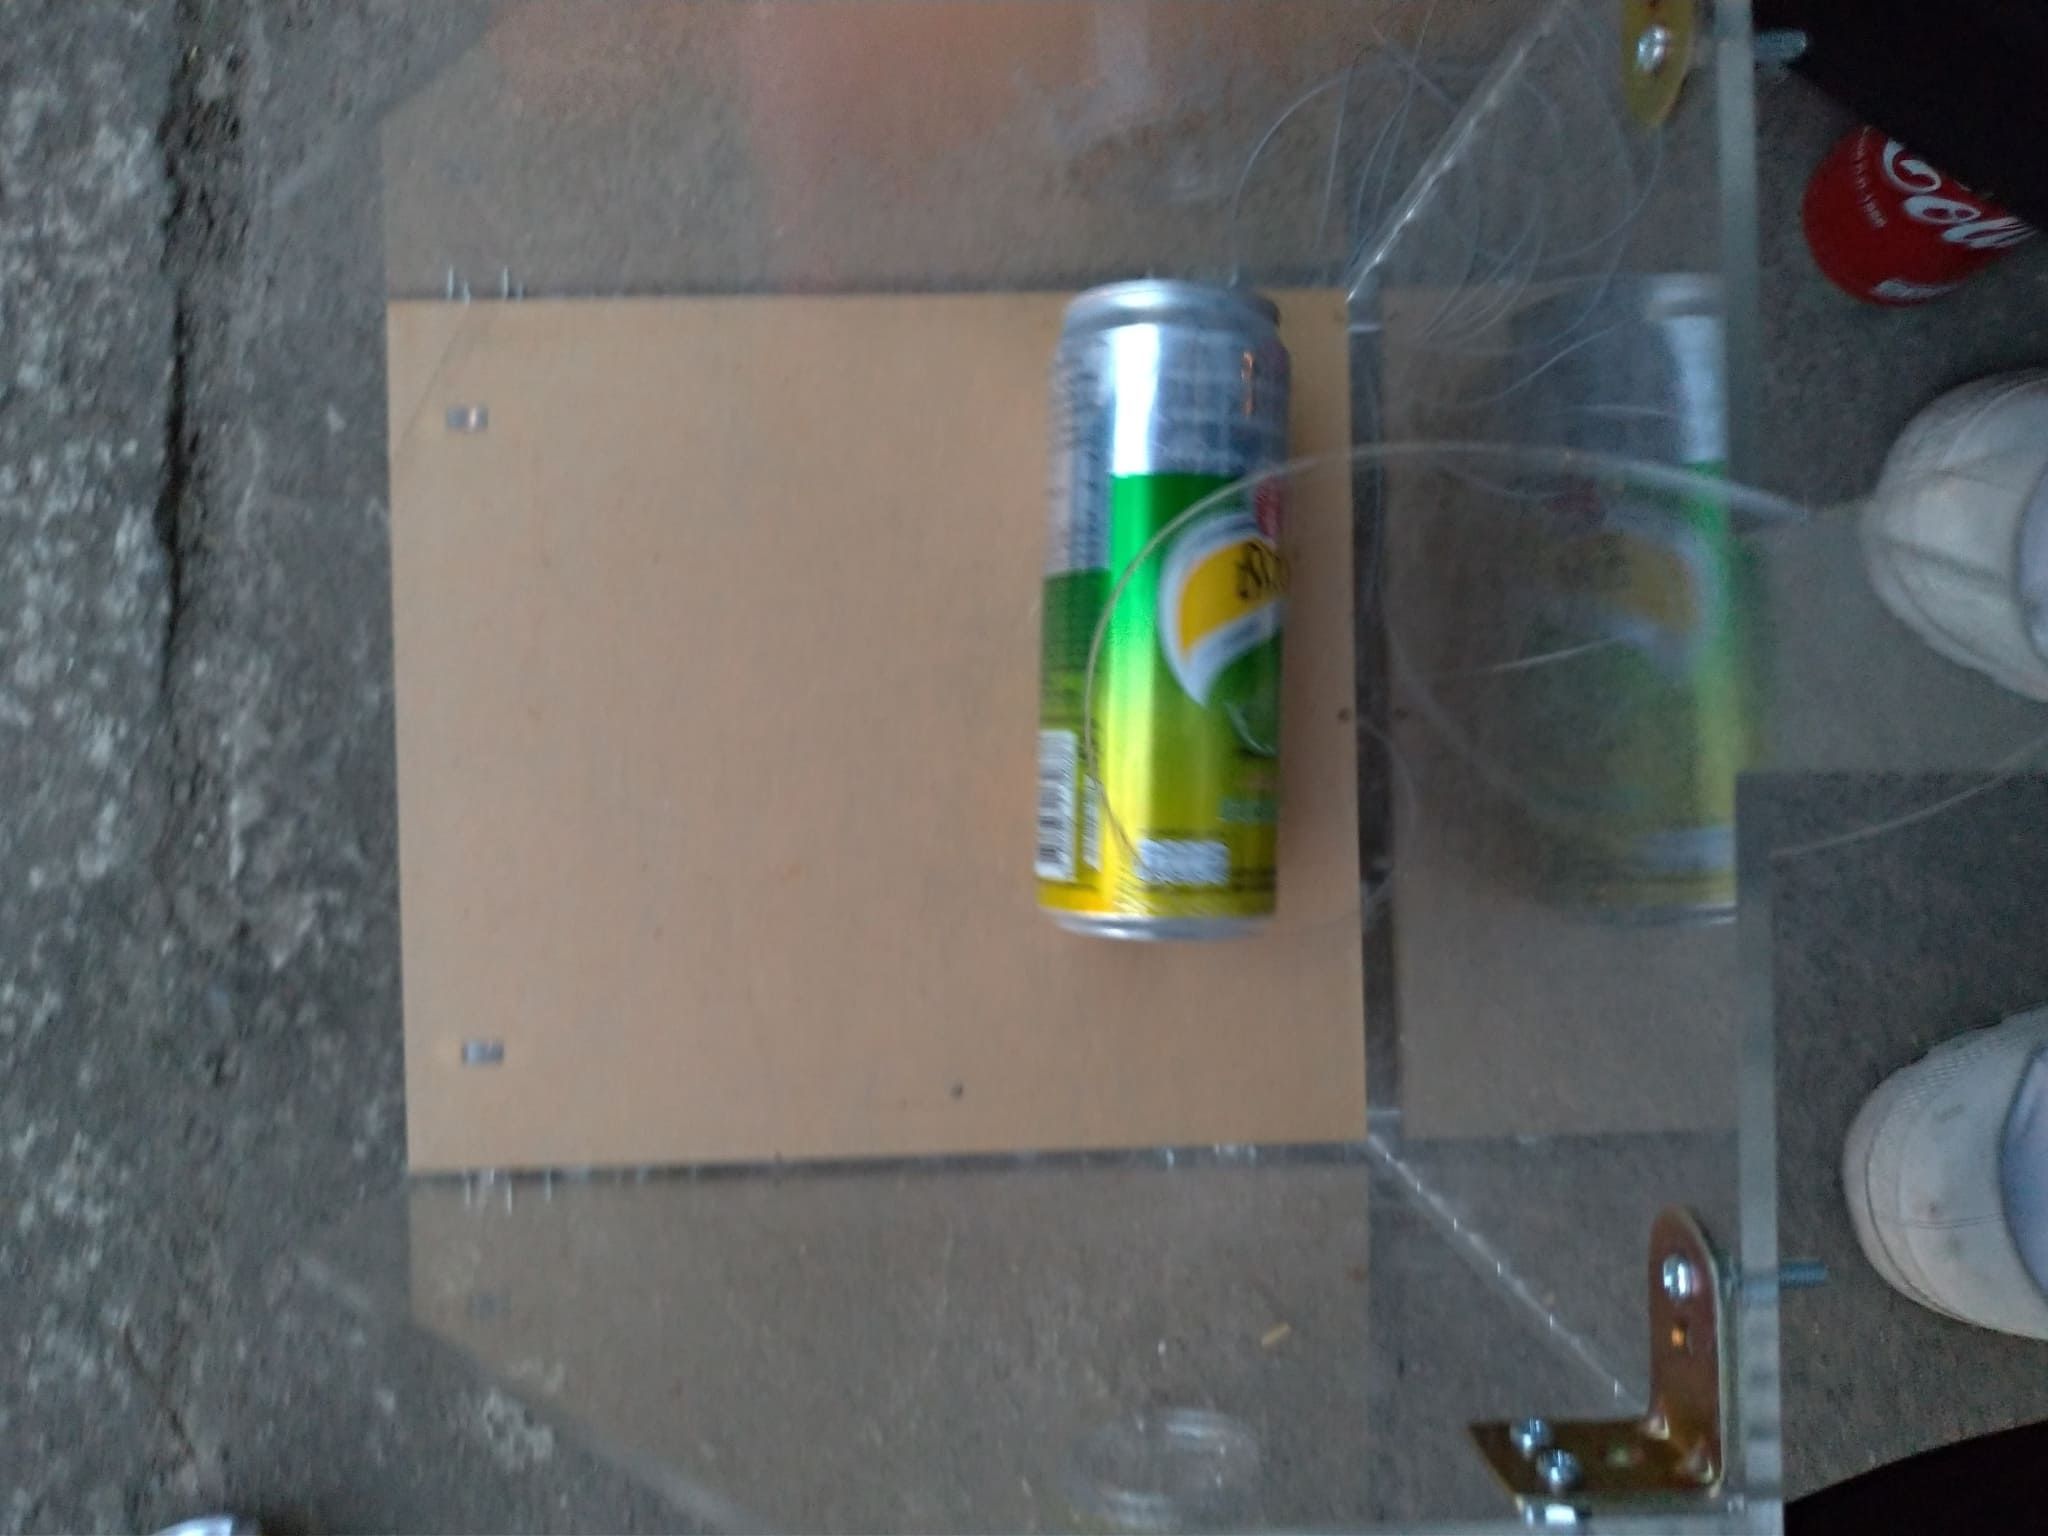AlCan: (1026, 286, 1288, 941), (1803, 106, 2029, 307)
